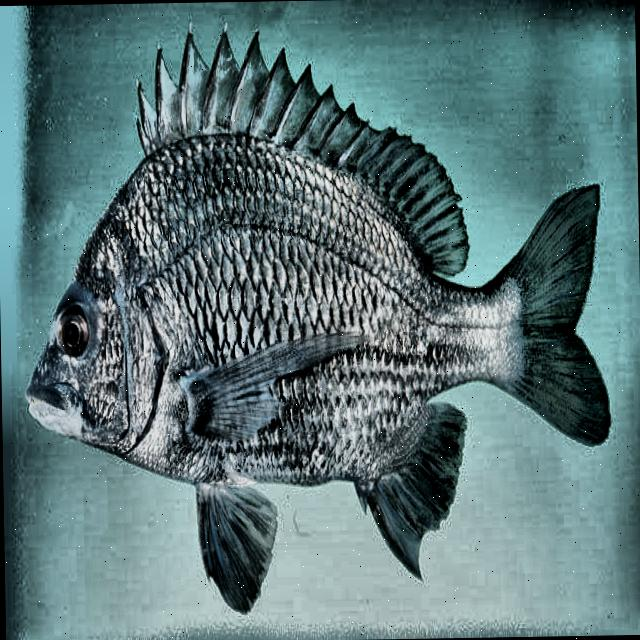fish: (22, 16, 608, 616)
